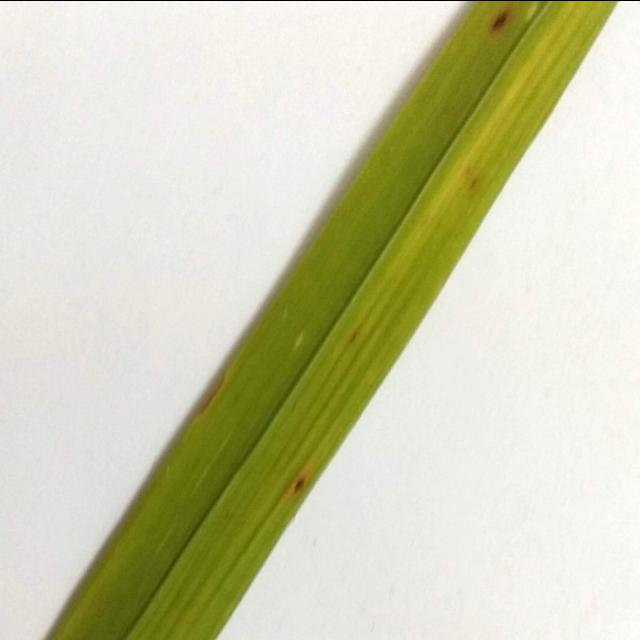Brown spot: (487, 0, 508, 50), (291, 468, 309, 497), (462, 162, 479, 192)
